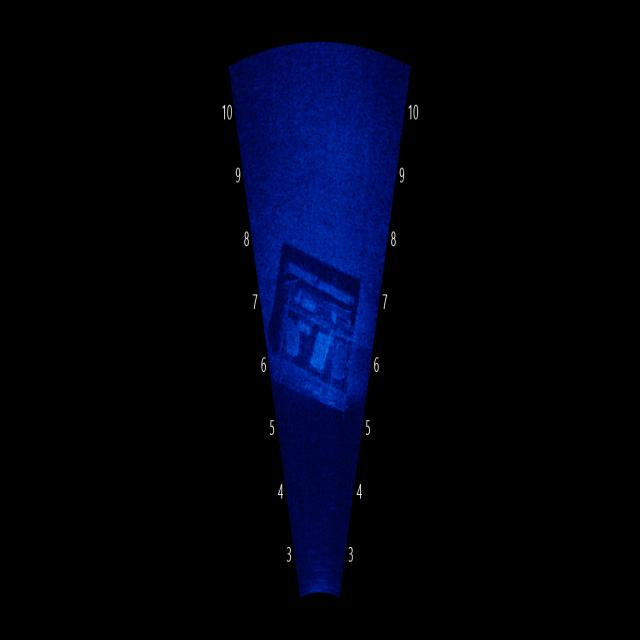square: (265, 224, 369, 433)
